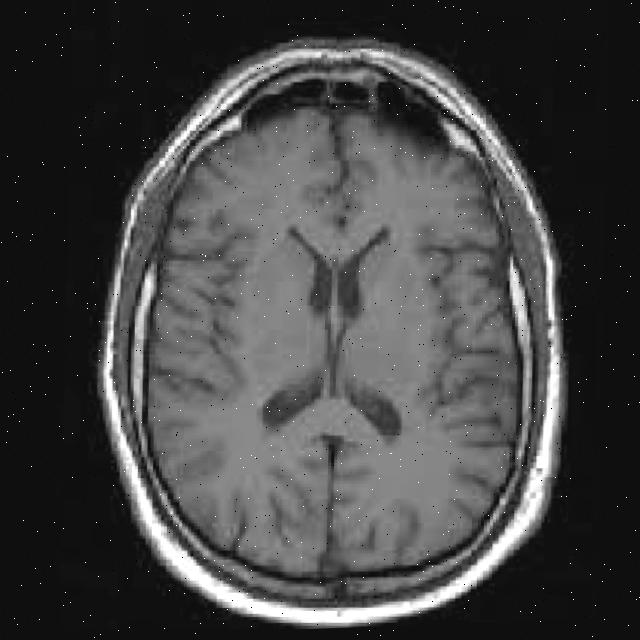NoTumor: (83, 19, 588, 637)
